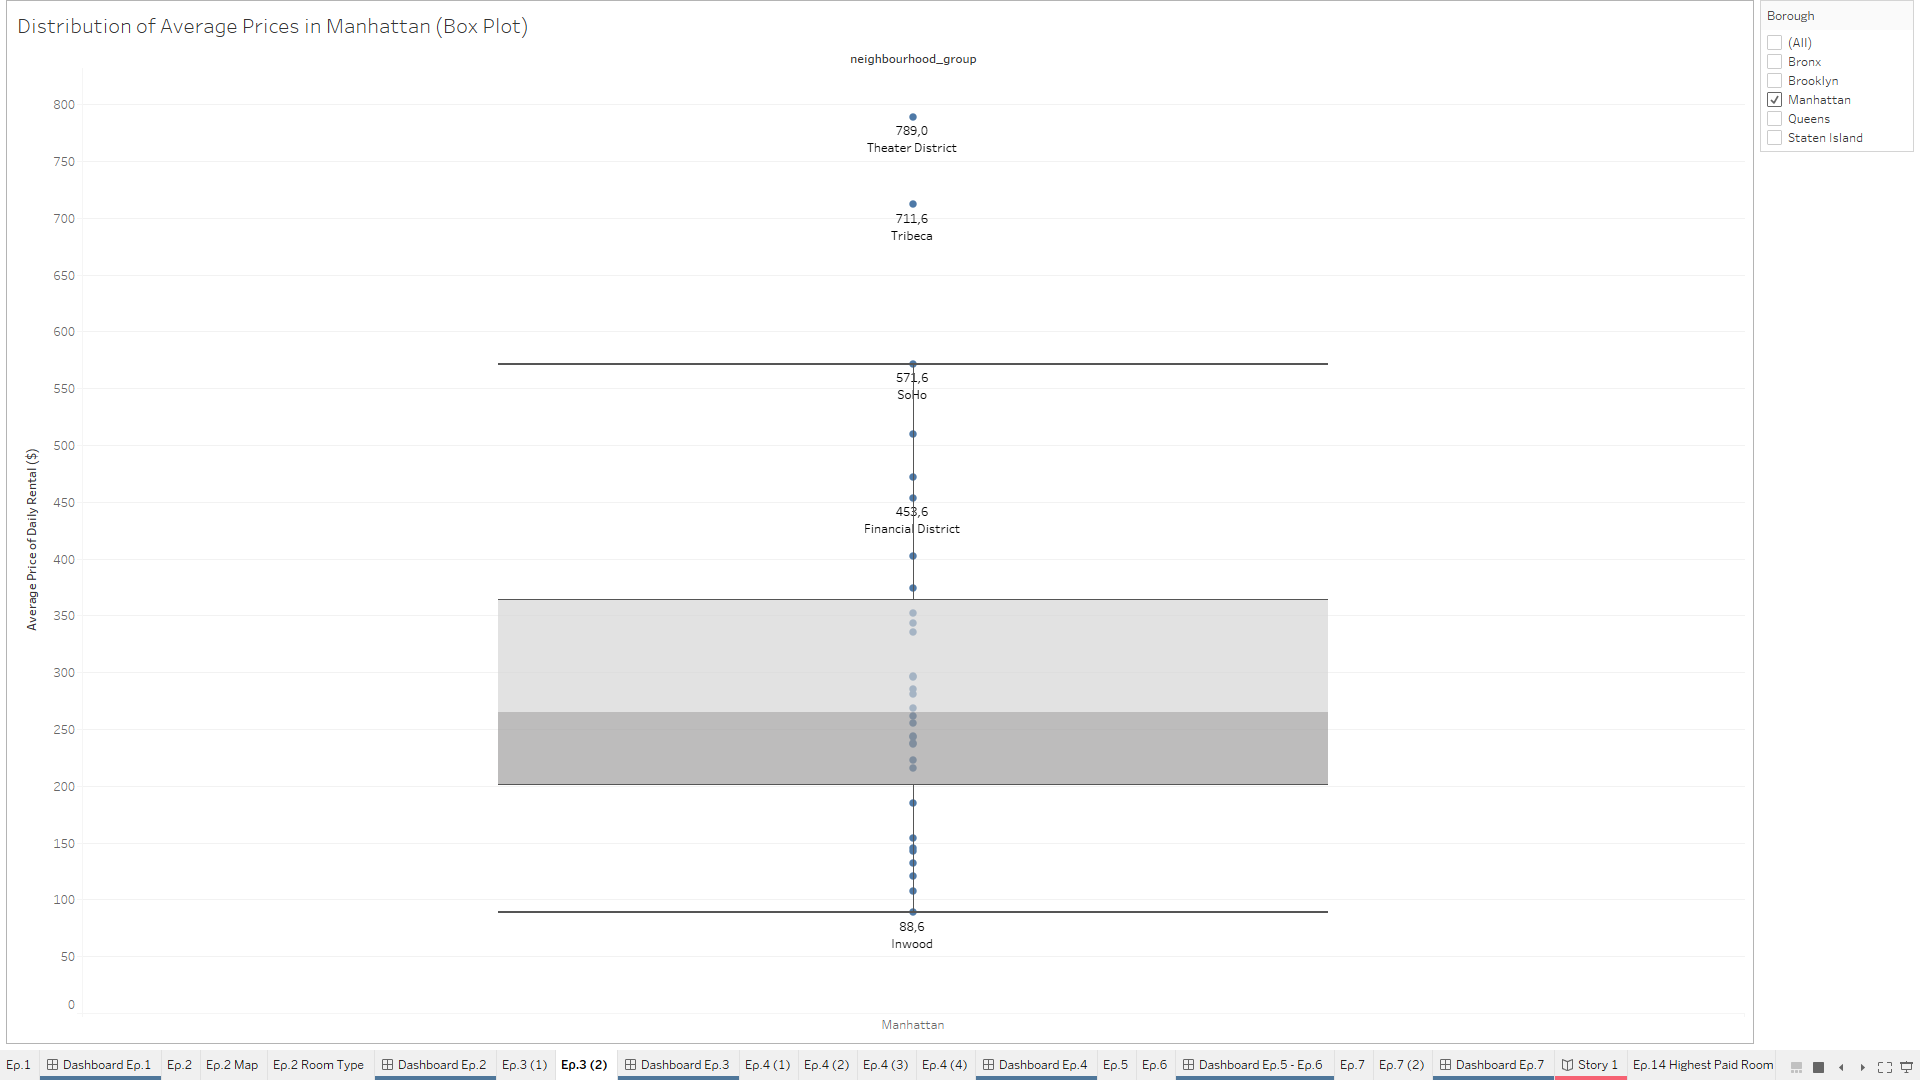

This screenshot's page, from the dashboard's own definition file:
{"tool":"tableau","page":{"name":"Dashboard Ερ.3","canvas":[1000,800],"ordinal":7},"visuals":[{"type":"worksheet","title":"Ερ.3 (1)","mark":"Automatic","rows":["neighbourhood_group","neighbourhood"],"cols":["price"],"box":[8,8,633,784]},{"type":"filter","title":"Ερ.3 (1)","param":"[federated.0qx4ns015wxjyk1gr6kcb1janunp].[none:neighbourhood_group:nk]","box":[641,8,351,148]},{"type":"worksheet","title":"Ερ.3 (2) ","mark":"Circle","rows":["price"],"cols":["neighbourhood_group"],"box":[641,156,351,636]}]}

Visuals, with their boxes on the page's 1000x800 design canvas (x1, y1, x2, y2). These are canvas units, not pixel positions in the 1920x1080 screenshot, which may show the page scaled, cropped or inside an application window:
"Ερ.3 (1)" worksheet: 8/8/641/792
"Ερ.3 (1)" filter: 641/8/992/156
"Ερ.3 (2) " worksheet (Circle marks): 641/156/992/792
